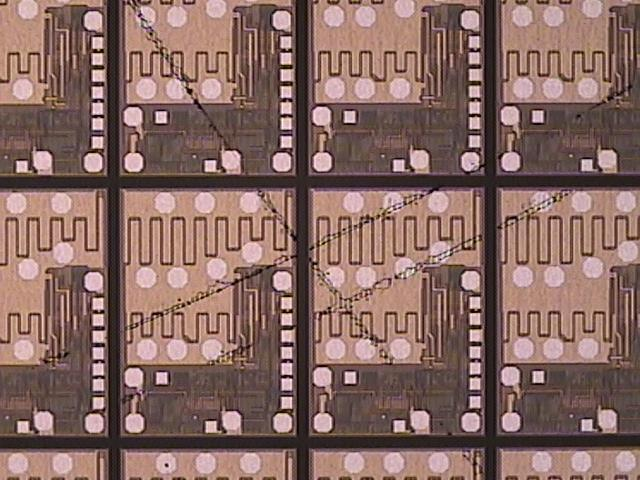SCRATCH: (1, 74, 640, 390), (122, 1, 497, 480), (71, 177, 591, 428)
